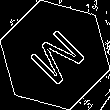M_SE: (21, 21, 89, 89)
